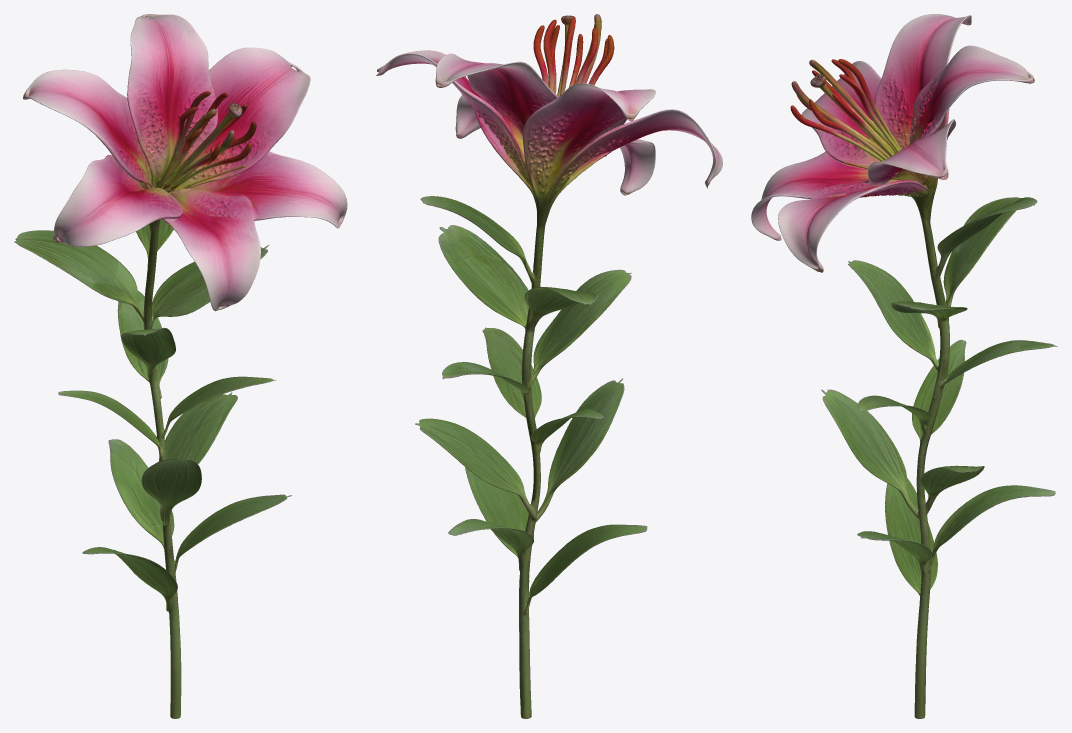
The model's file is Liliflowerpink.glb.
The picture shows the model from 3 angles, left to right: view 1: azimuth 30°, elevation 25°; view 2: azimuth 150°, elevation 25°; view 3: azimuth 270°, elevation 25°; orthographic projection. The views are drawn at different scales.
Size of the model in its own units: 0.8607 by 1.9 by 0.7951.
Materials: 1 (1 with a texture image).
